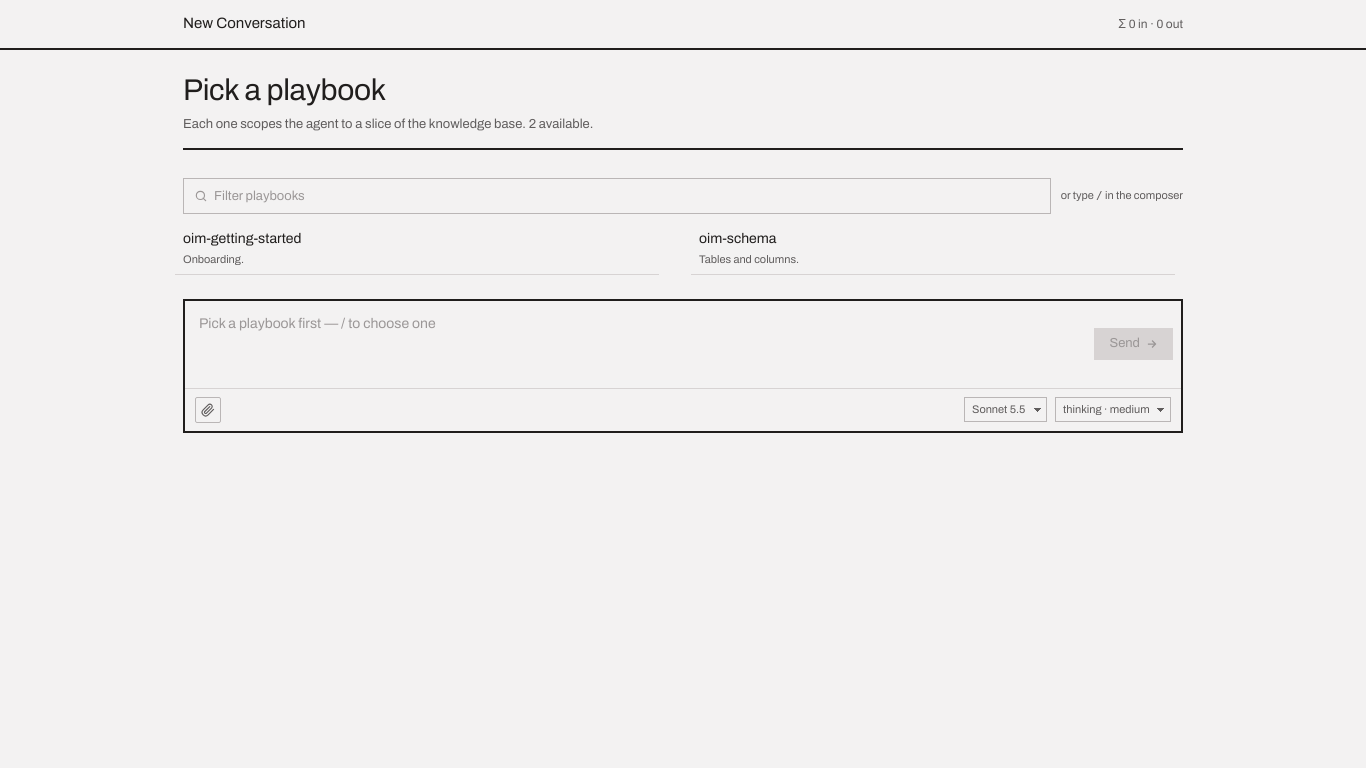
it: playbook preflight › refuses a single-agent question with no playbook attached
In the text box with placeholder "Pick a playbook first — / to choose one": (636, 344) 185,301 -> 1086,388, type "Just asking."
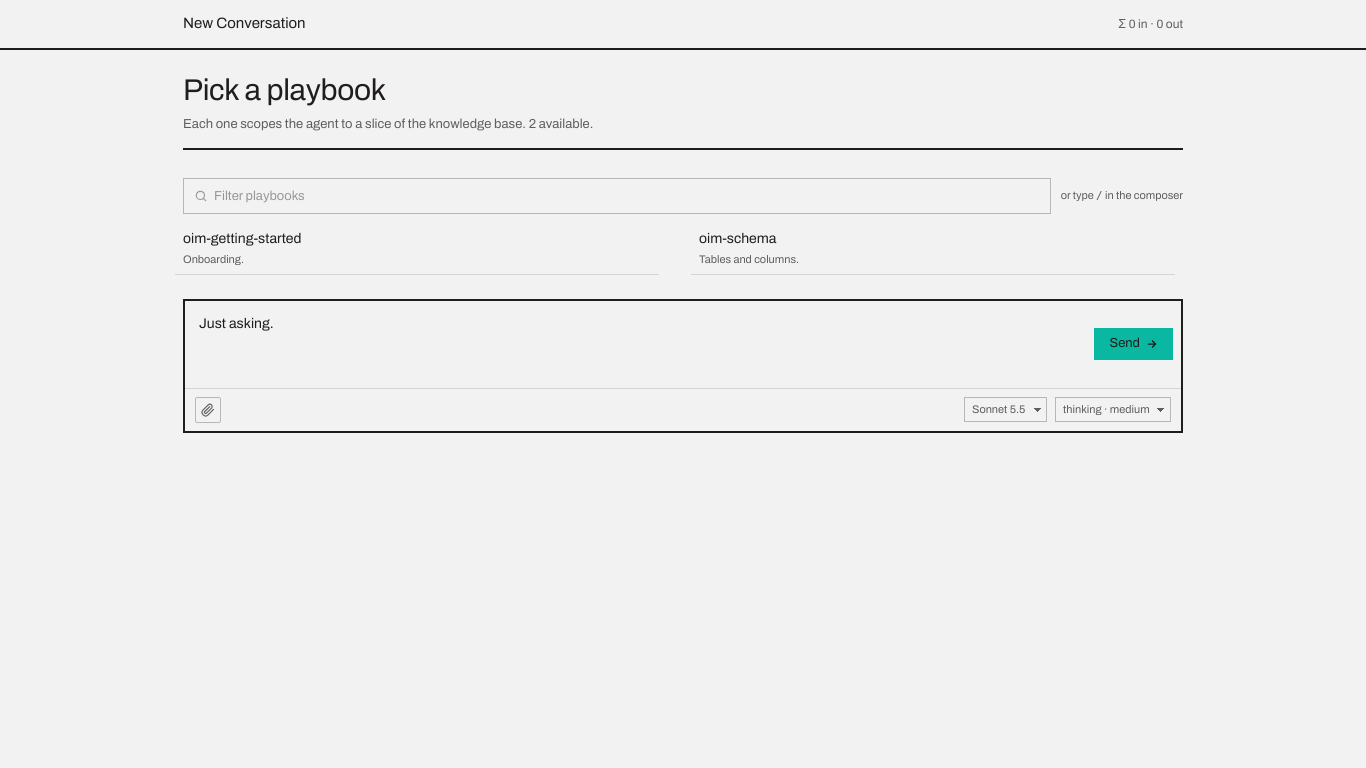
Click the button with class "composer-send": (1134, 344) 1094,328 -> 1173,360
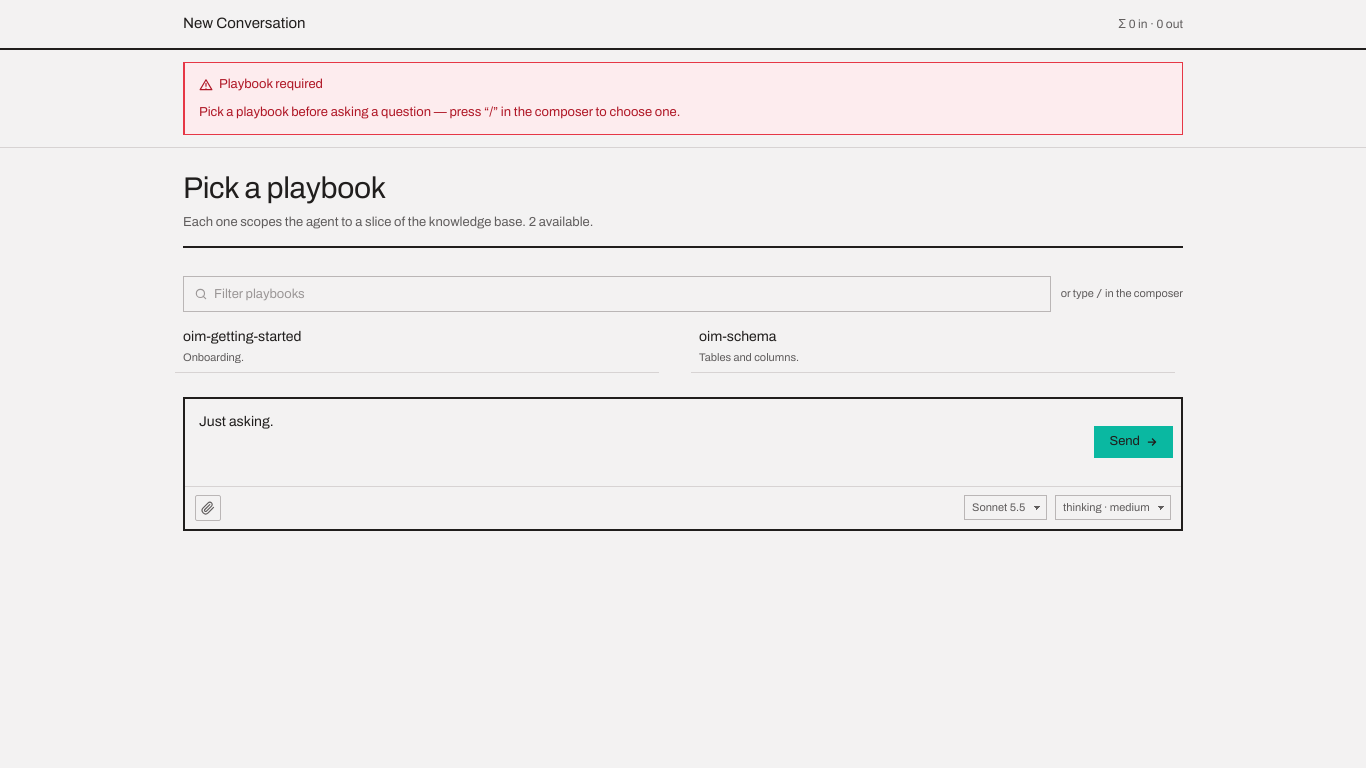
Result: the text "Playbook required" is shown at 199,77 -> 323,92
